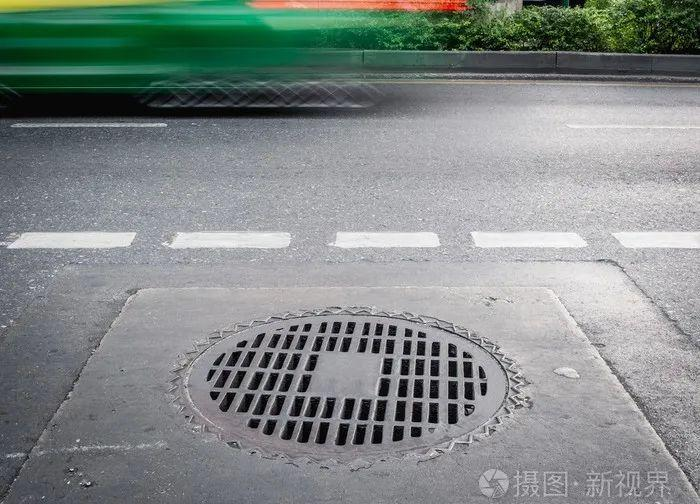wellcover: (192, 291, 534, 462)
